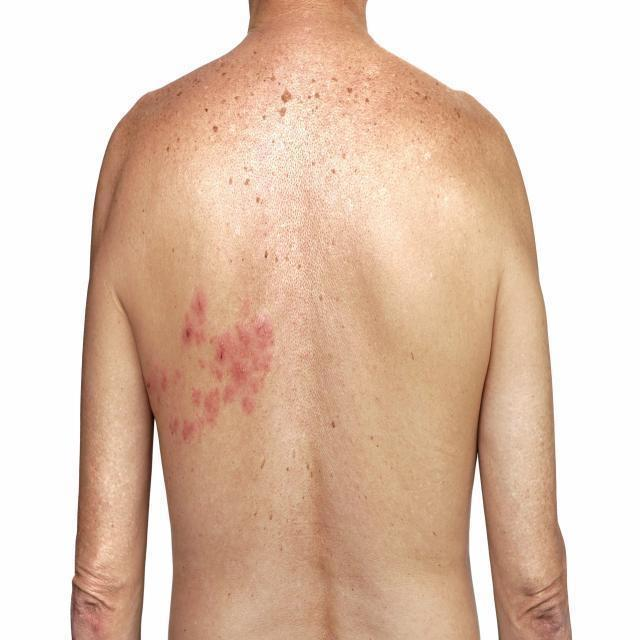Shingles: (144, 290, 278, 444)
